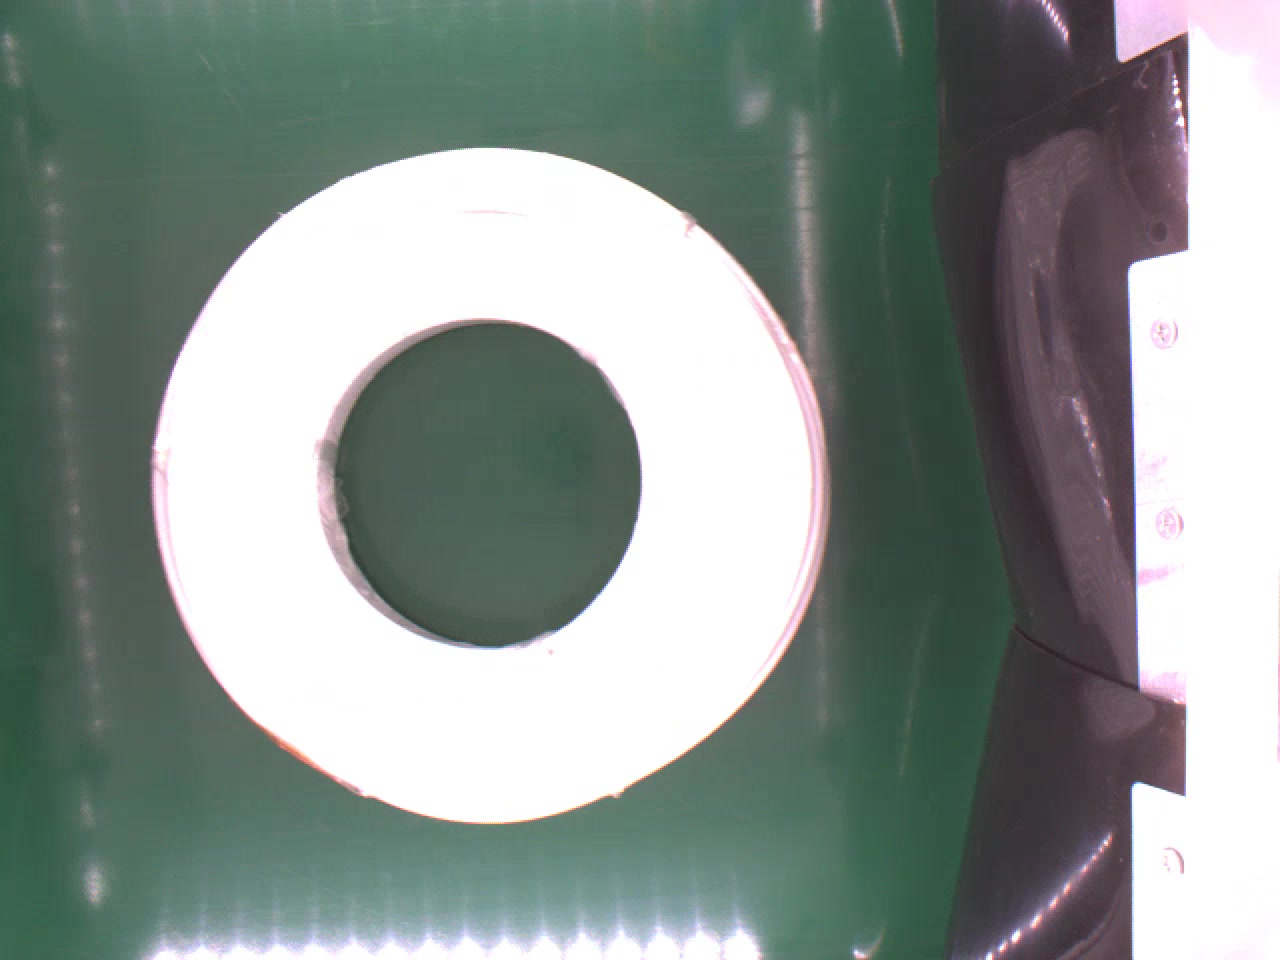white: (137, 142, 837, 830)
